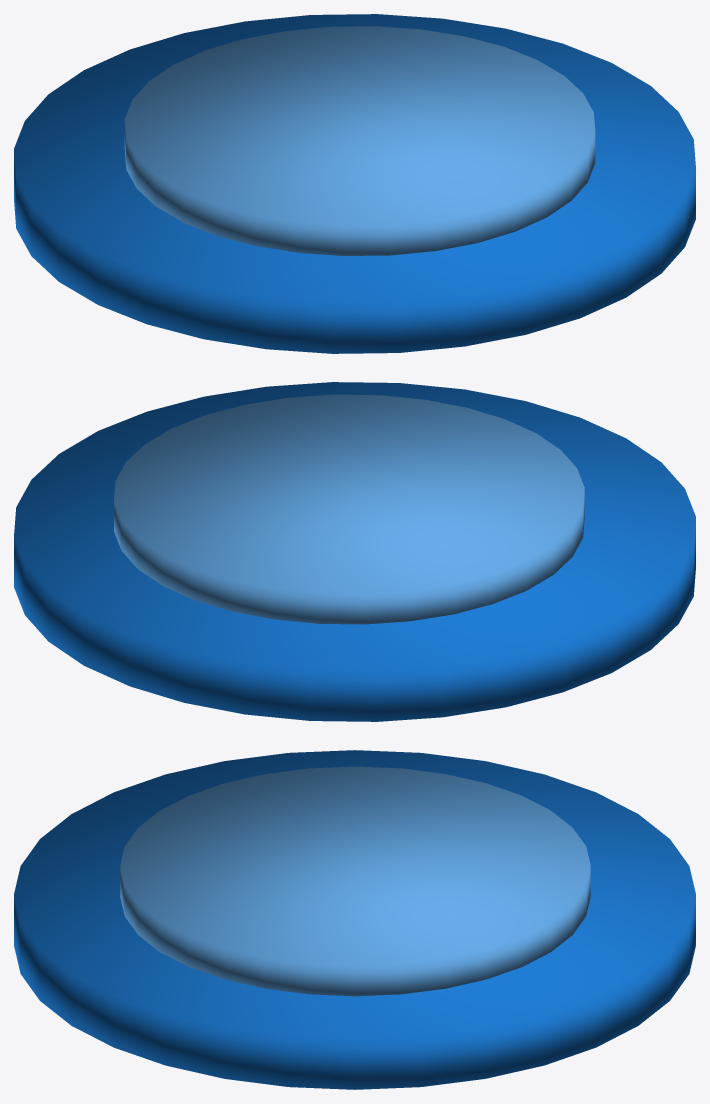
File: bluePlate.fbx
3 renders of one model, top to bottom at view 1: azimuth 30°, elevation 25°; view 2: azimuth 150°, elevation 25°; view 3: azimuth 270°, elevation 25°, orthographic.
Parts seen in each view (by area): view 1: Cylinder, Cylinder.001; view 2: Cylinder, Cylinder.001; view 3: Cylinder, Cylinder.001.
Boxes of the visible parts, box(x1,y1,x2,y2) form: Cylinder: box(14, 14, 695, 353); Cylinder.001: box(124, 26, 595, 255); Cylinder: box(14, 382, 695, 721); Cylinder.001: box(114, 394, 584, 624); Cylinder: box(14, 750, 695, 1089); Cylinder.001: box(120, 766, 590, 996).
Bounding box in the file's own units: 120 × 16.01 × 120.
